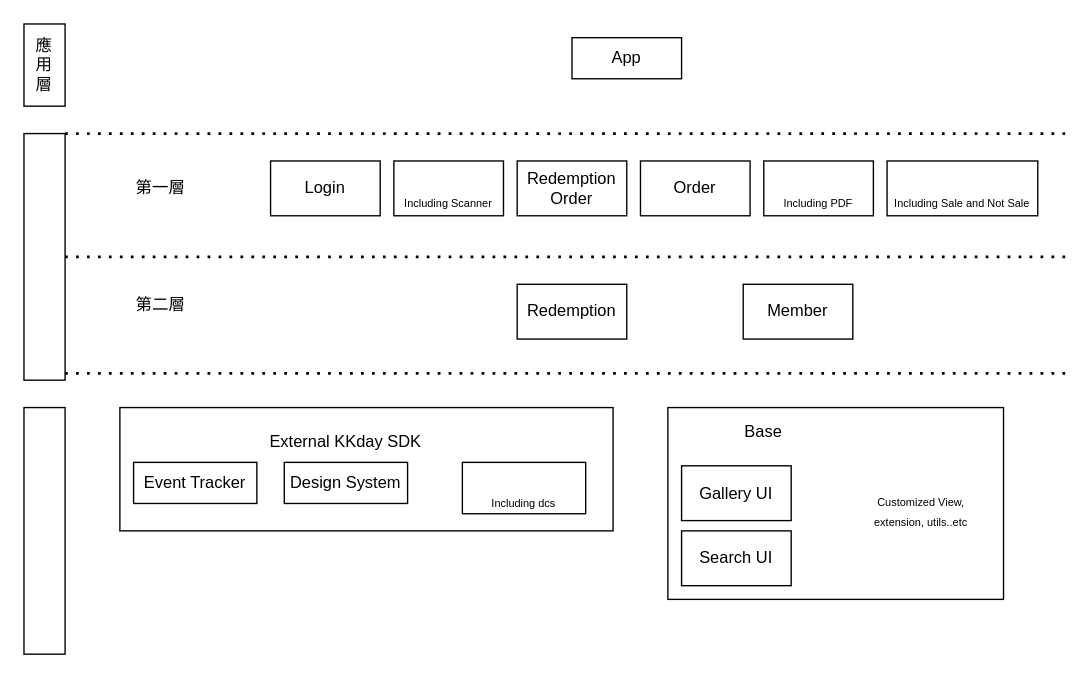
Image size: 1092x678. Some labels were removed from this diagram. The shapes that lost their labels are listed below. From the top down, each one's box as (x1, y1, x2, y2) in pixels, then its label:
(393, 160, 503, 216): Home
(762, 160, 873, 216): Messages
(886, 160, 1038, 216): Invertory
(23, 132, 65, 380): 業 務 層
(461, 461, 586, 514): Network
(23, 406, 65, 654): 基 礎 層
